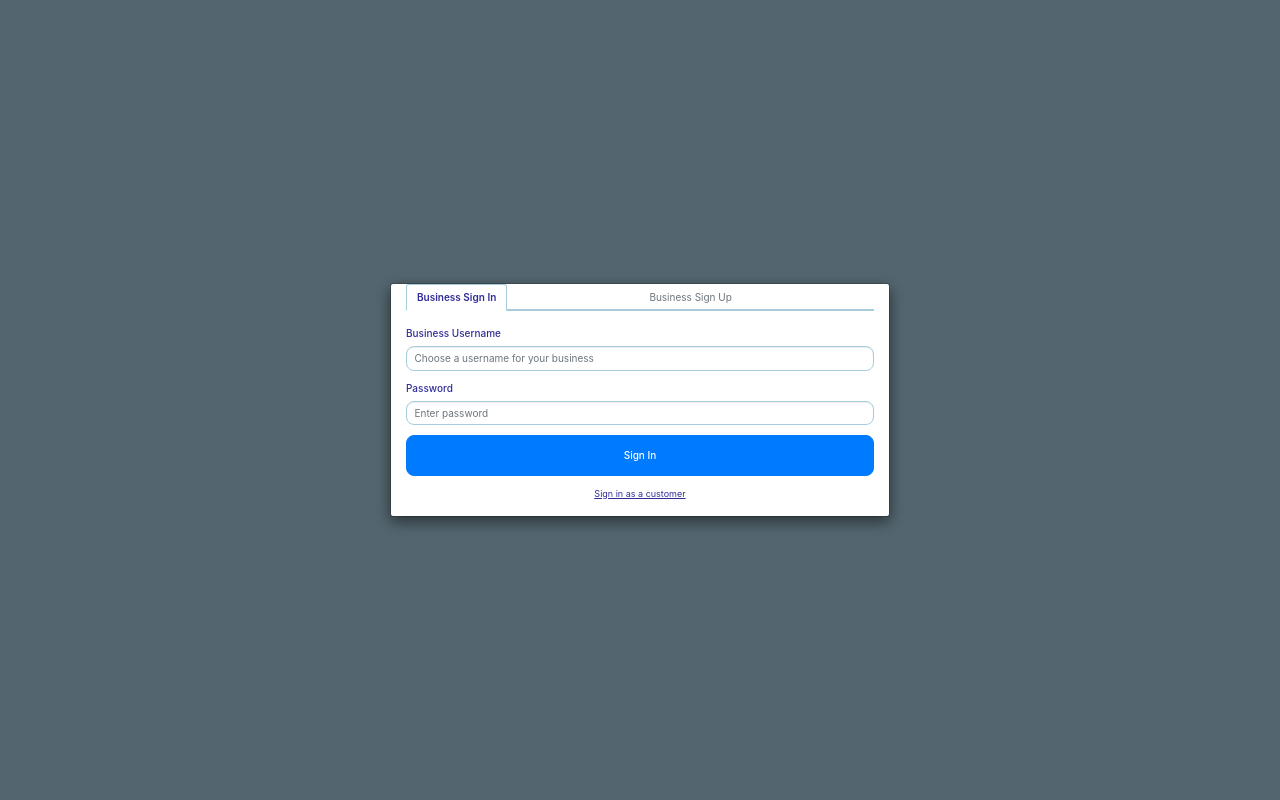
it: UnifiedAuthModal › business signup › should show additional fields for business signup
Step 1. Click the button "Business Sign Up" → (691, 298), box [638, 284, 743, 311]
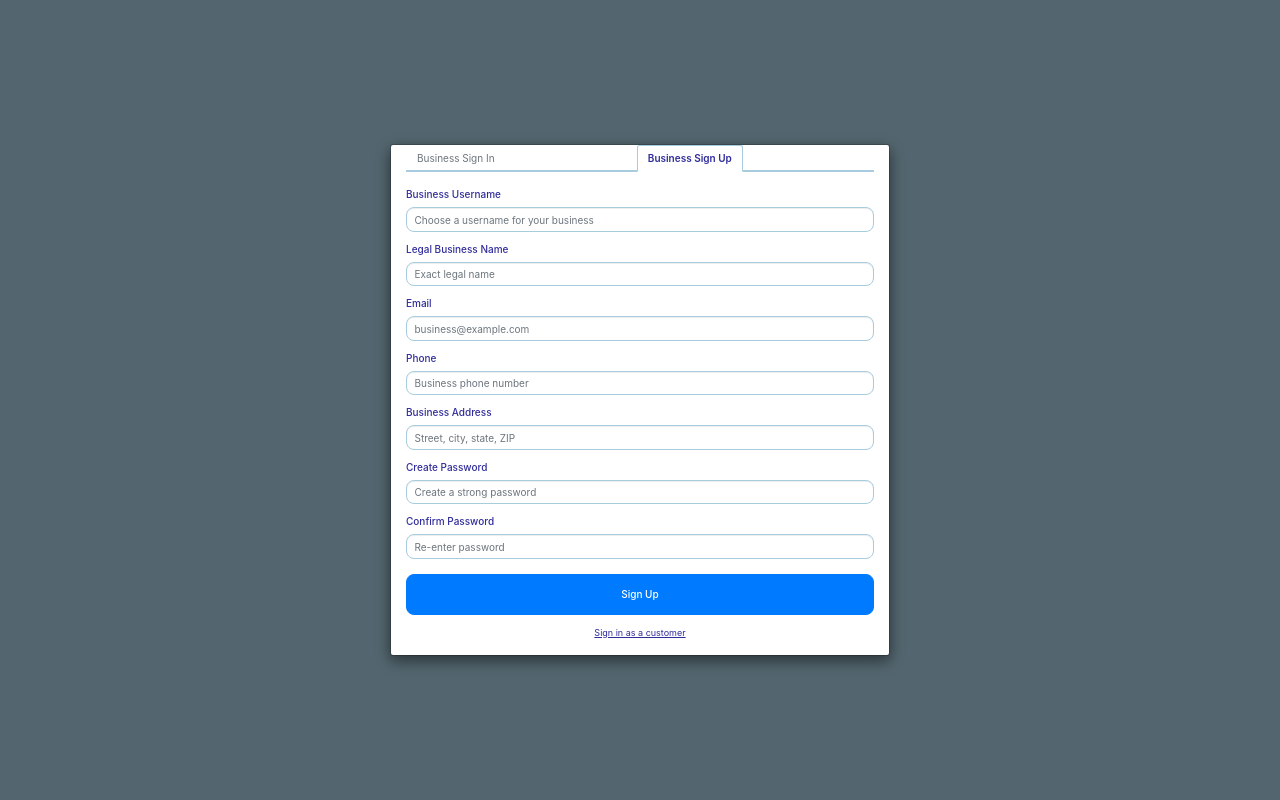
Now the field labelled "Legal Business Name" is shown, box [406, 262, 874, 286]
Now the field labelled "Email" is shown, box [406, 316, 874, 341]
Now the field labelled "Phone" is shown, box [406, 371, 874, 395]
